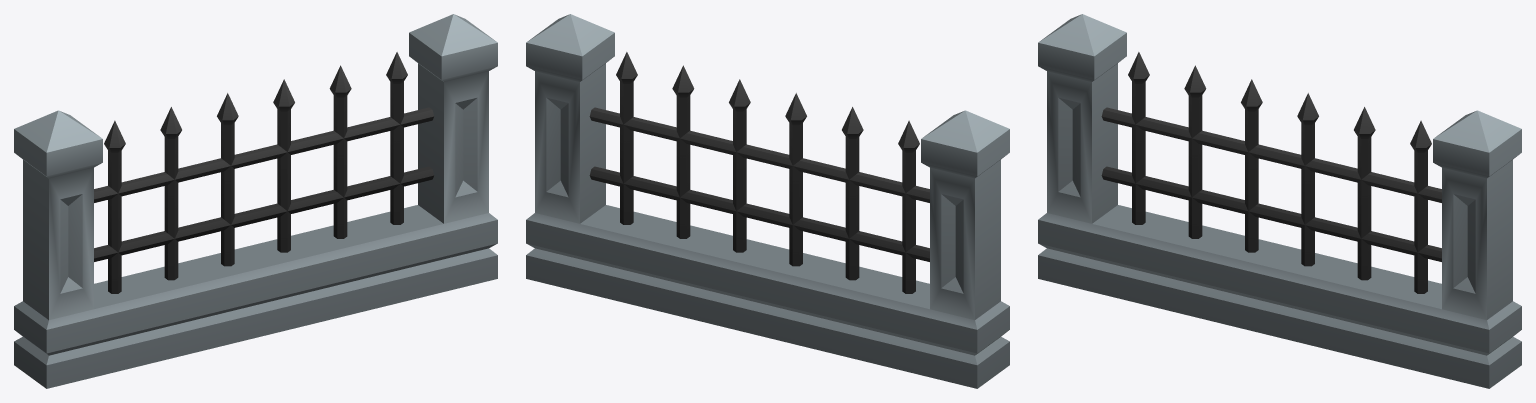
File: hw-fence.glb
The picture shows the model from 3 angles, left to right: view 1: azimuth 30°, elevation 25°; view 2: azimuth 150°, elevation 25°; view 3: azimuth 330°, elevation 25°; orthographic projection.
Visible parts, largest first — view 1: fence; view 2: fence; view 3: fence.
Part boxes in pixels (x1,y1,x2,y2): fence: (14,14,497,388); fence: (526,14,1009,388); fence: (1038,14,1521,388).
Bounding box in the file's own units: 4 × 2.2 × 0.5.
Materials: 1 (1 with a texture image).
